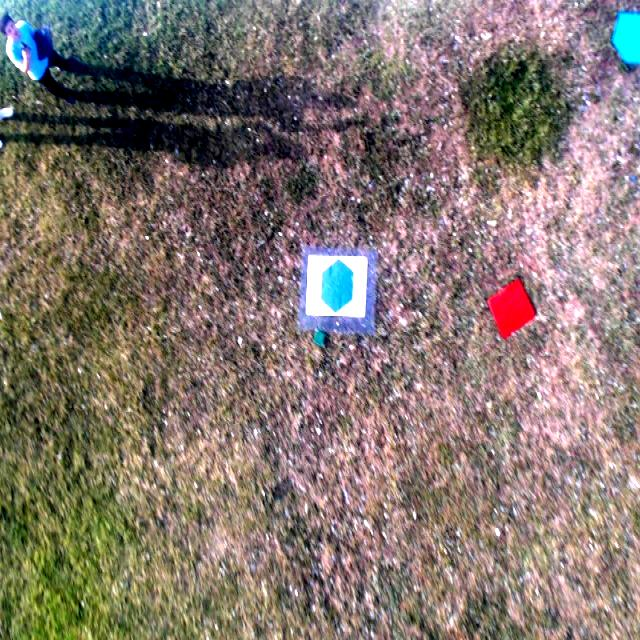blue_hexagon: (321, 259, 353, 312)
red_square: (487, 280, 534, 338)
